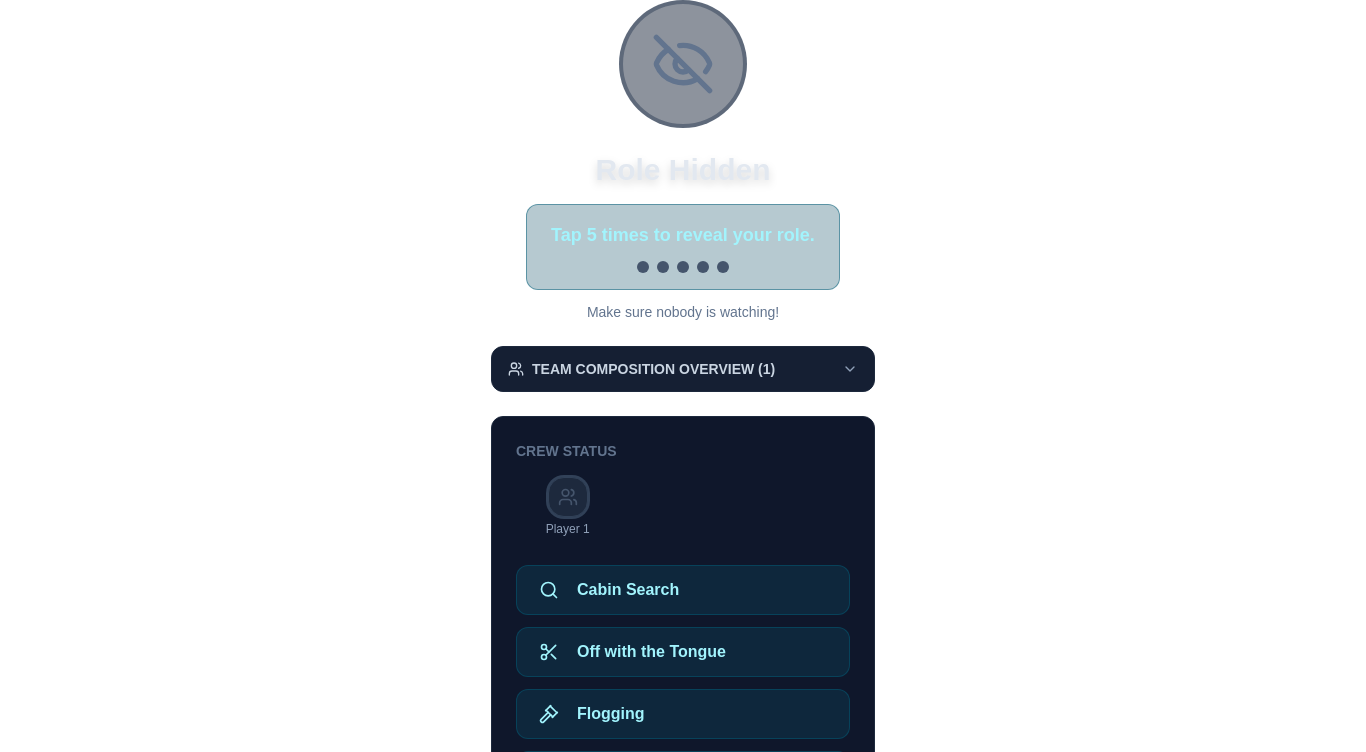
GameView › renders role information after reveal
Click the button "Tap 5 times to reveal your role." at x=683, y=247, box [526, 204, 840, 290]
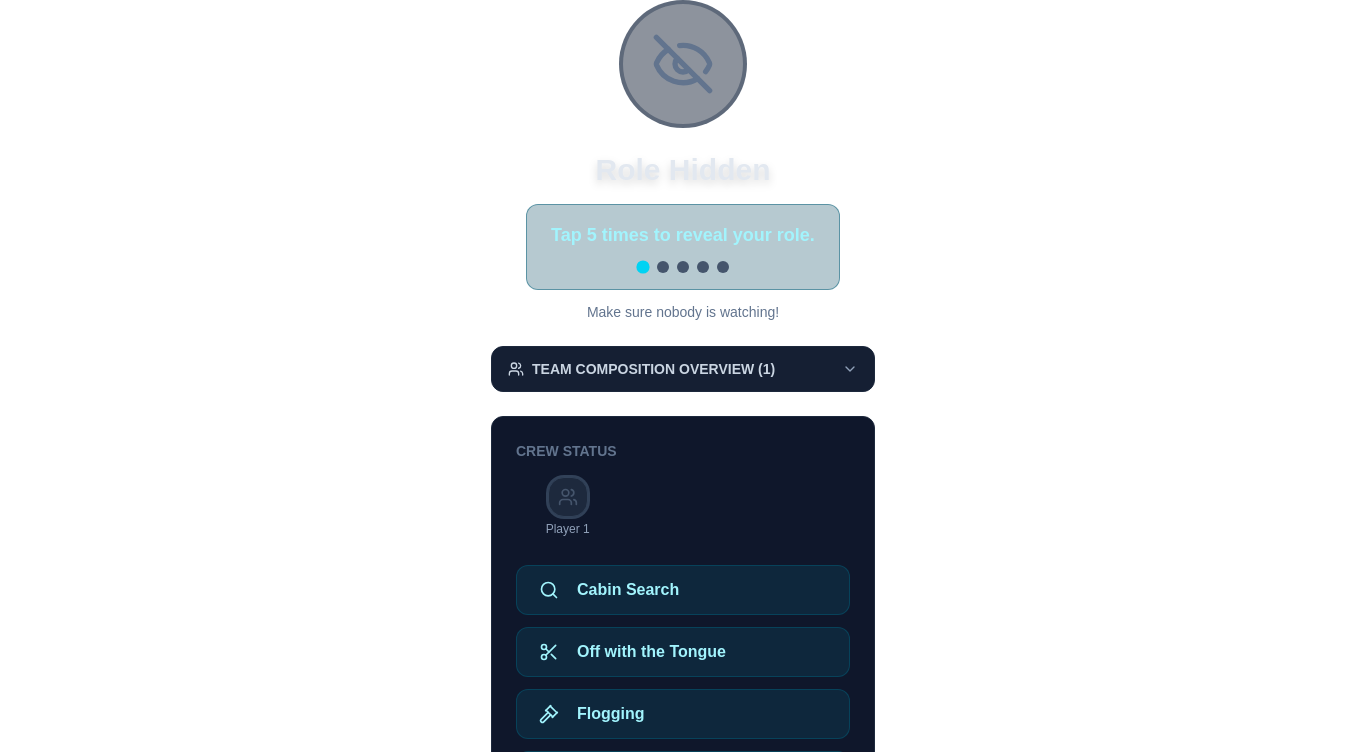
Click the button "Tap 5 times to reveal your role." at x=683, y=247, box [526, 204, 840, 290]
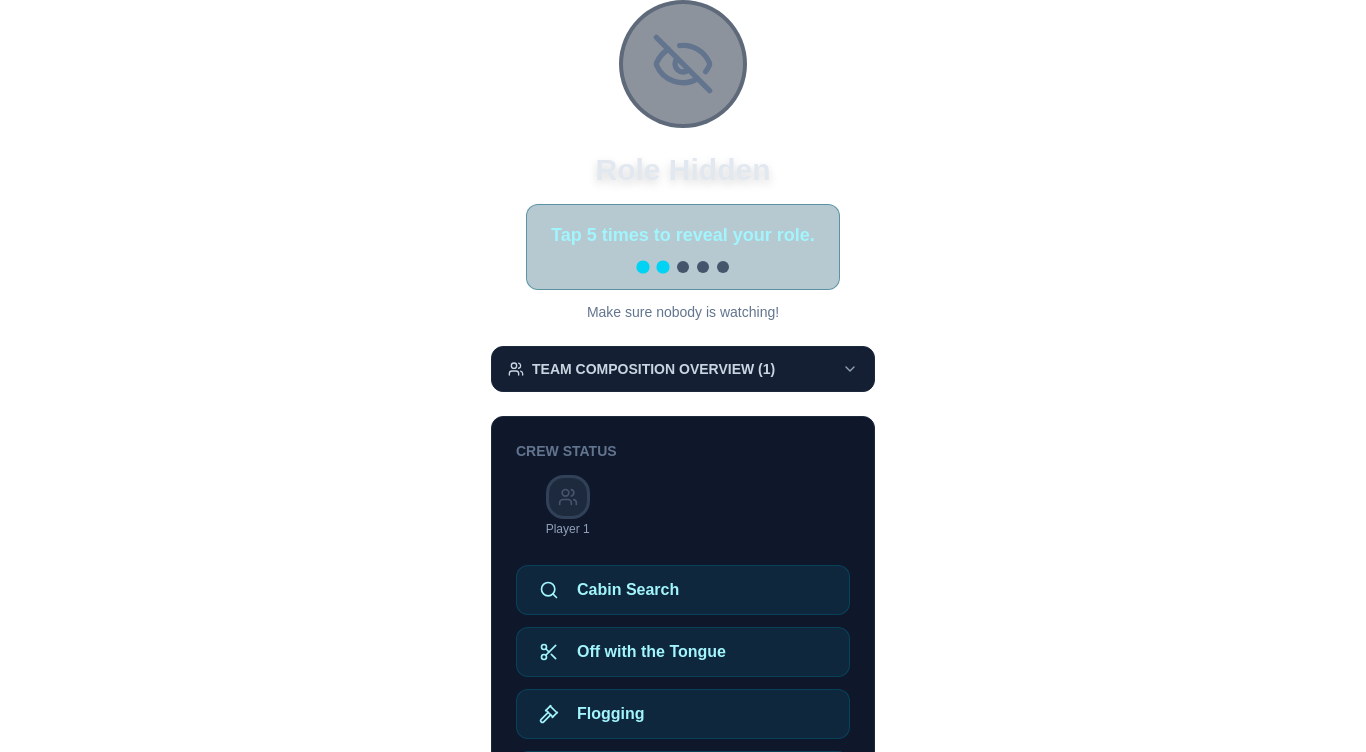
Click the button "Tap 5 times to reveal your role." at x=683, y=247, box [526, 204, 840, 290]
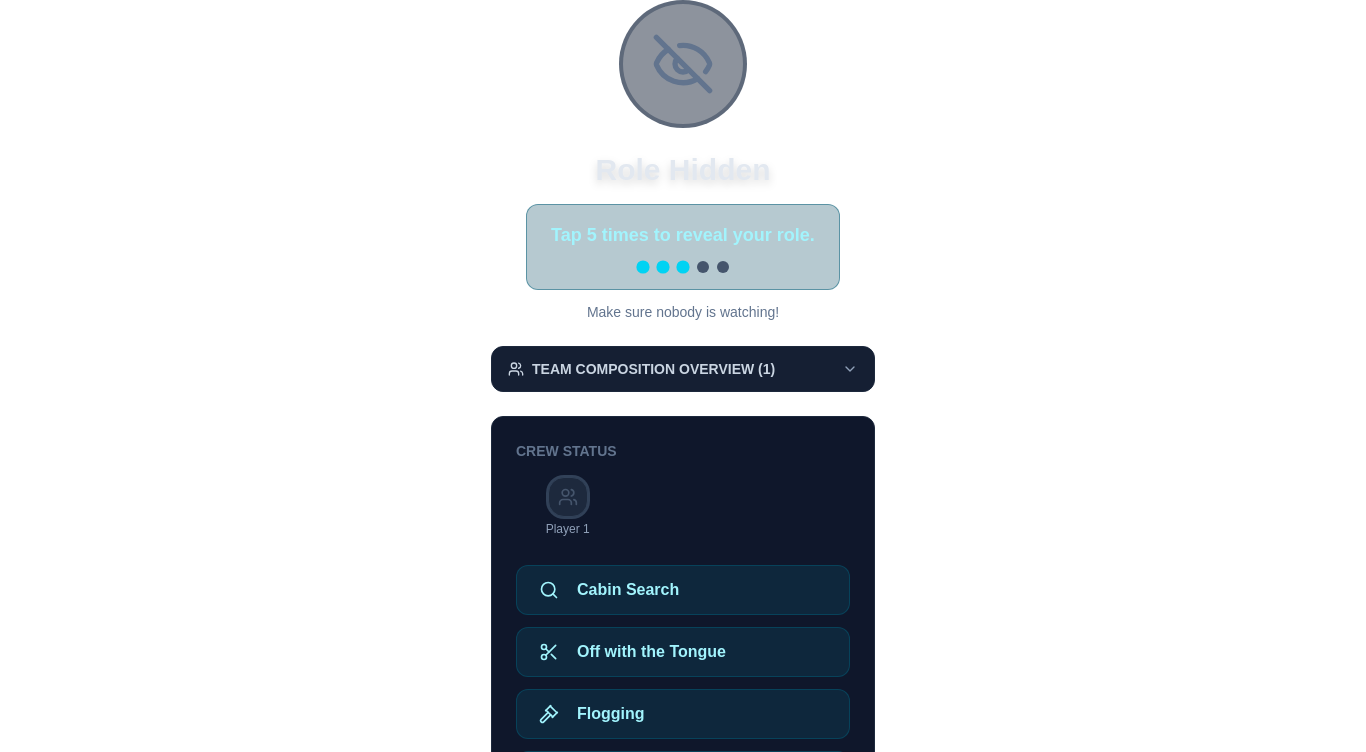
Click the button "Tap 5 times to reveal your role." at x=683, y=247, box [526, 204, 840, 290]
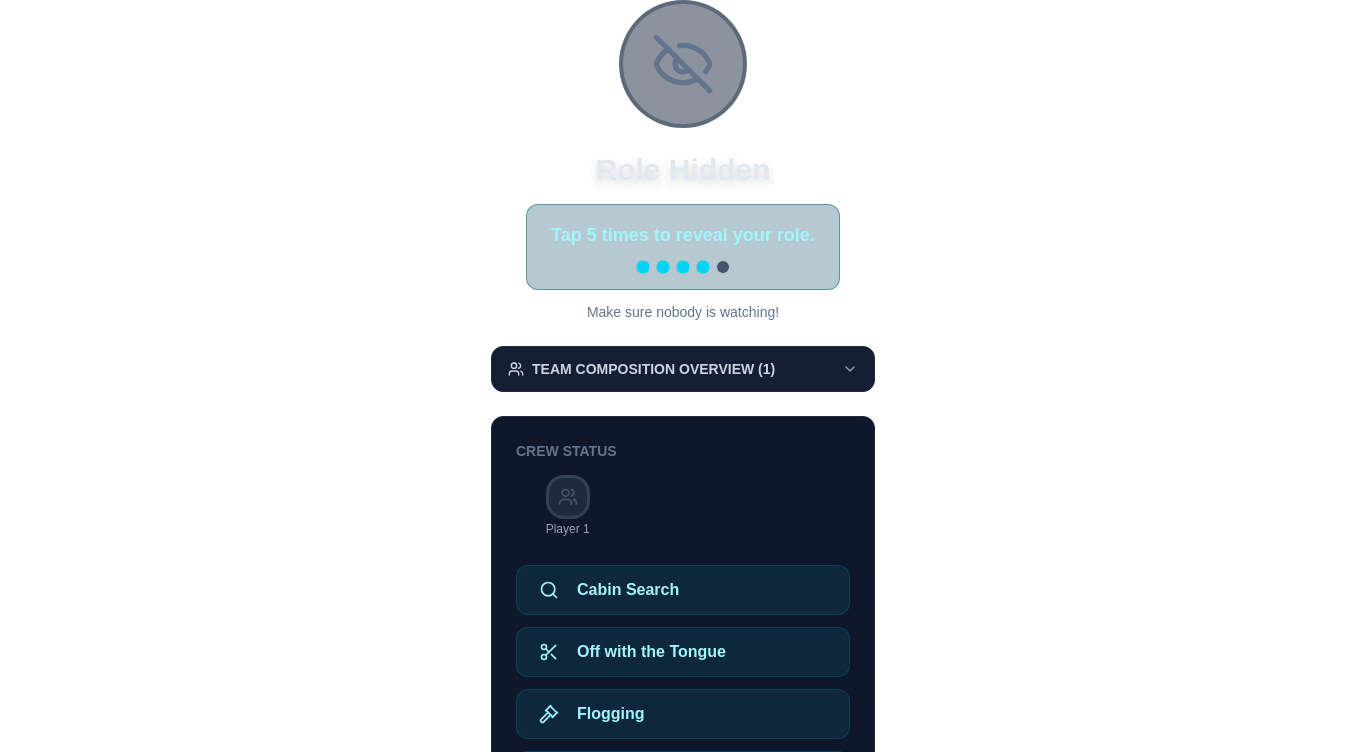
Click the button "Tap 5 times to reveal your role." at x=683, y=247, box [526, 204, 840, 290]
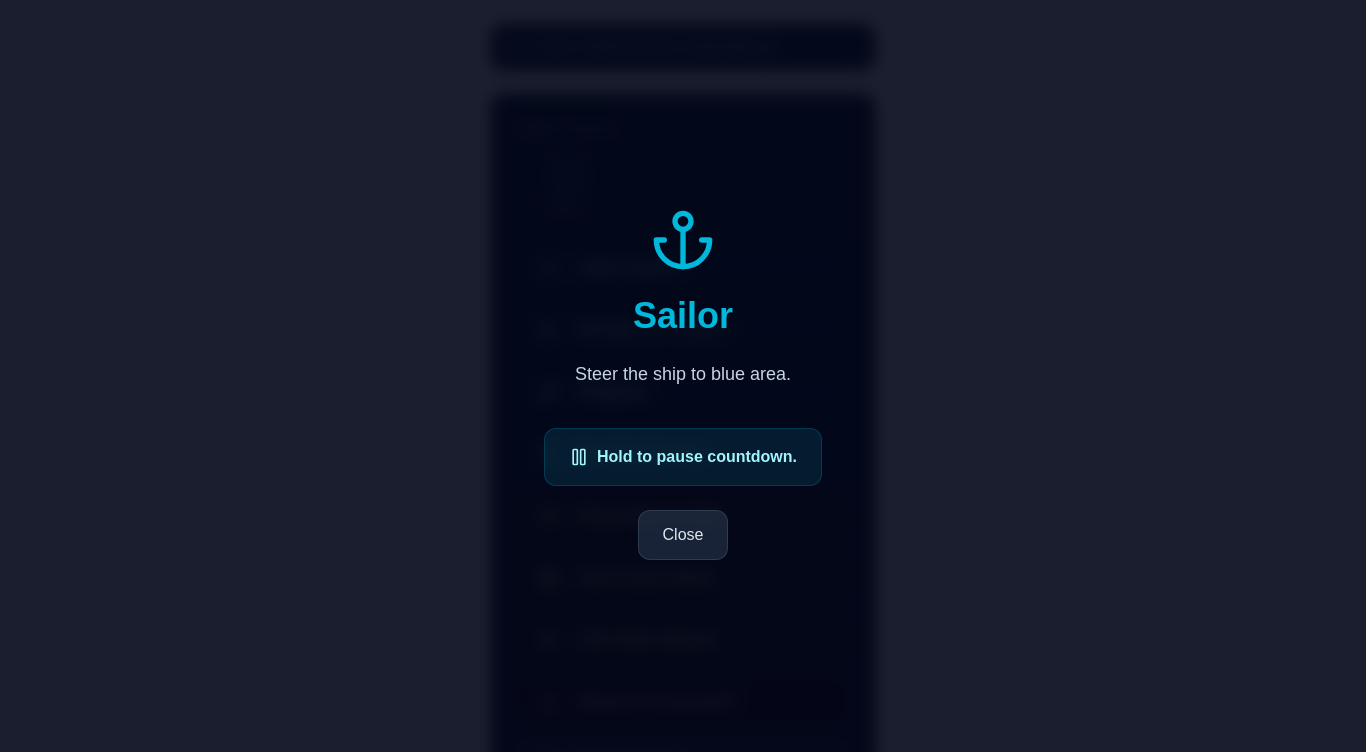
expect the heading "Sailor" is shown: met, box [633, 296, 733, 336]
expect the text "Steer the ship to blue area." is shown: met, box [575, 360, 791, 388]
